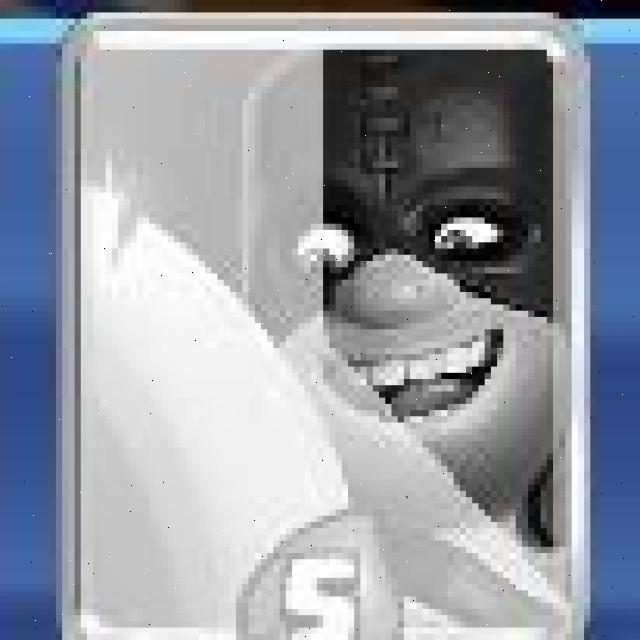Executioner: (55, 11, 594, 640)
